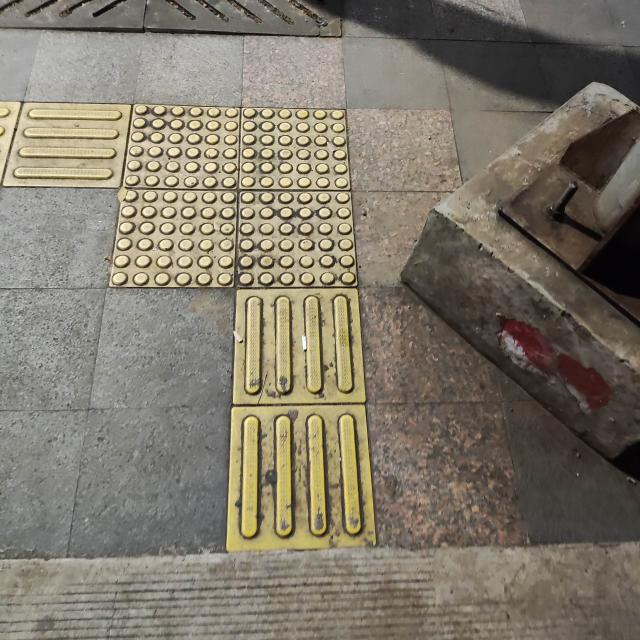kiri: (2, 72, 426, 400)
